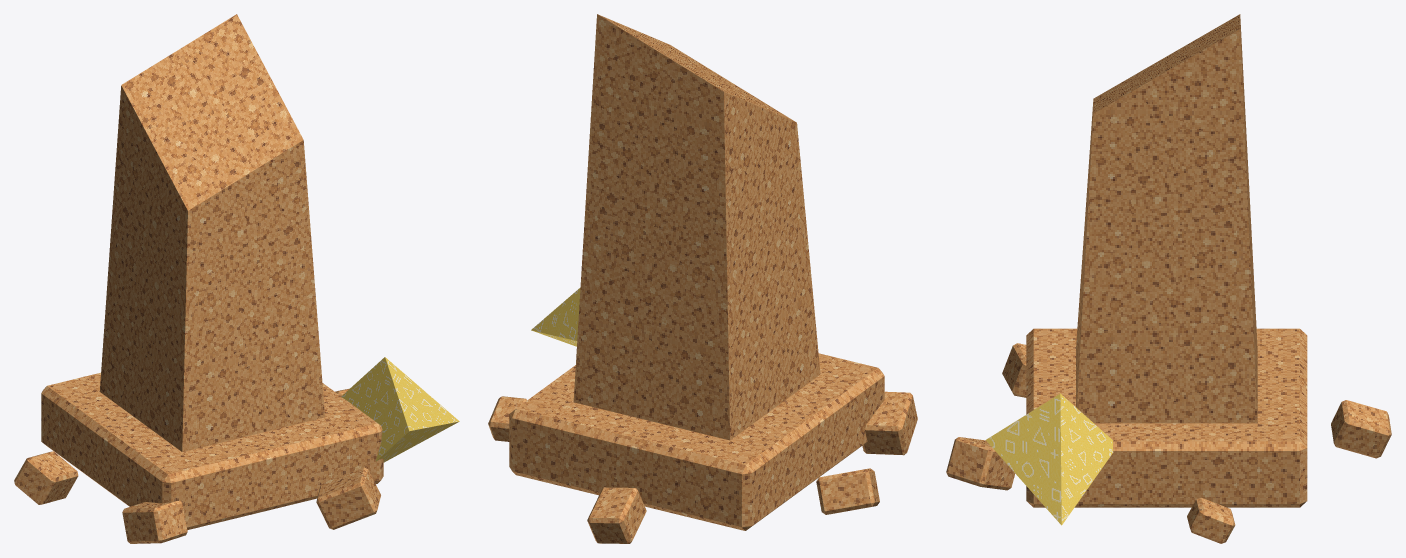
The model's file is ruins_obelisk_broken.glb.
The picture shows the model from 3 angles, left to right: view 1: azimuth 30°, elevation 25°; view 2: azimuth 150°, elevation 25°; view 3: azimuth 270°, elevation 25°; orthographic projection. The views are drawn at different scales.
Visible parts, largest first — view 1: BrokenObelisk; view 2: BrokenObelisk; view 3: BrokenObelisk.
Boxes of the visible parts, left/top/right/bottom form: BrokenObelisk: left=14, top=14, right=459, bottom=543; BrokenObelisk: left=488, top=14, right=917, bottom=543; BrokenObelisk: left=946, top=14, right=1391, bottom=543.
Size of the model in its own units: 3.94 by 4.2 by 3.65.
Materials: 2 (2 with a texture image).
